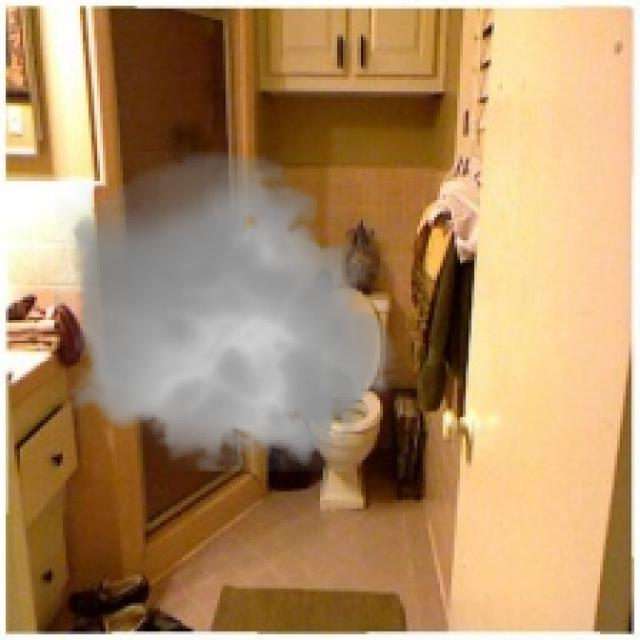Smoke: (54, 140, 409, 486)
